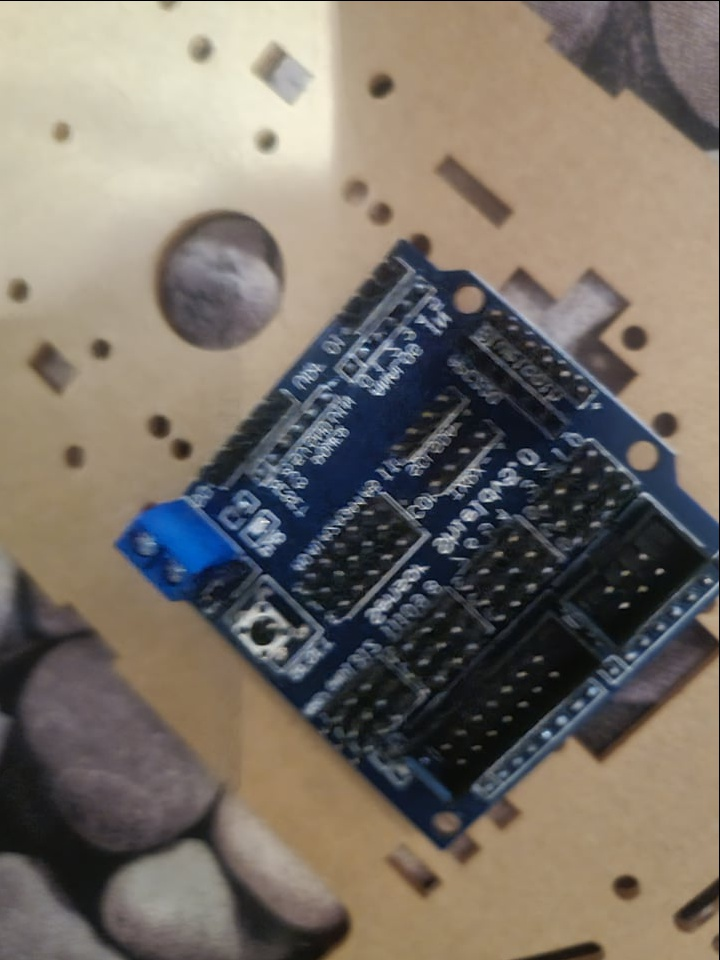5V EXPANSION: (110, 238, 720, 847)
